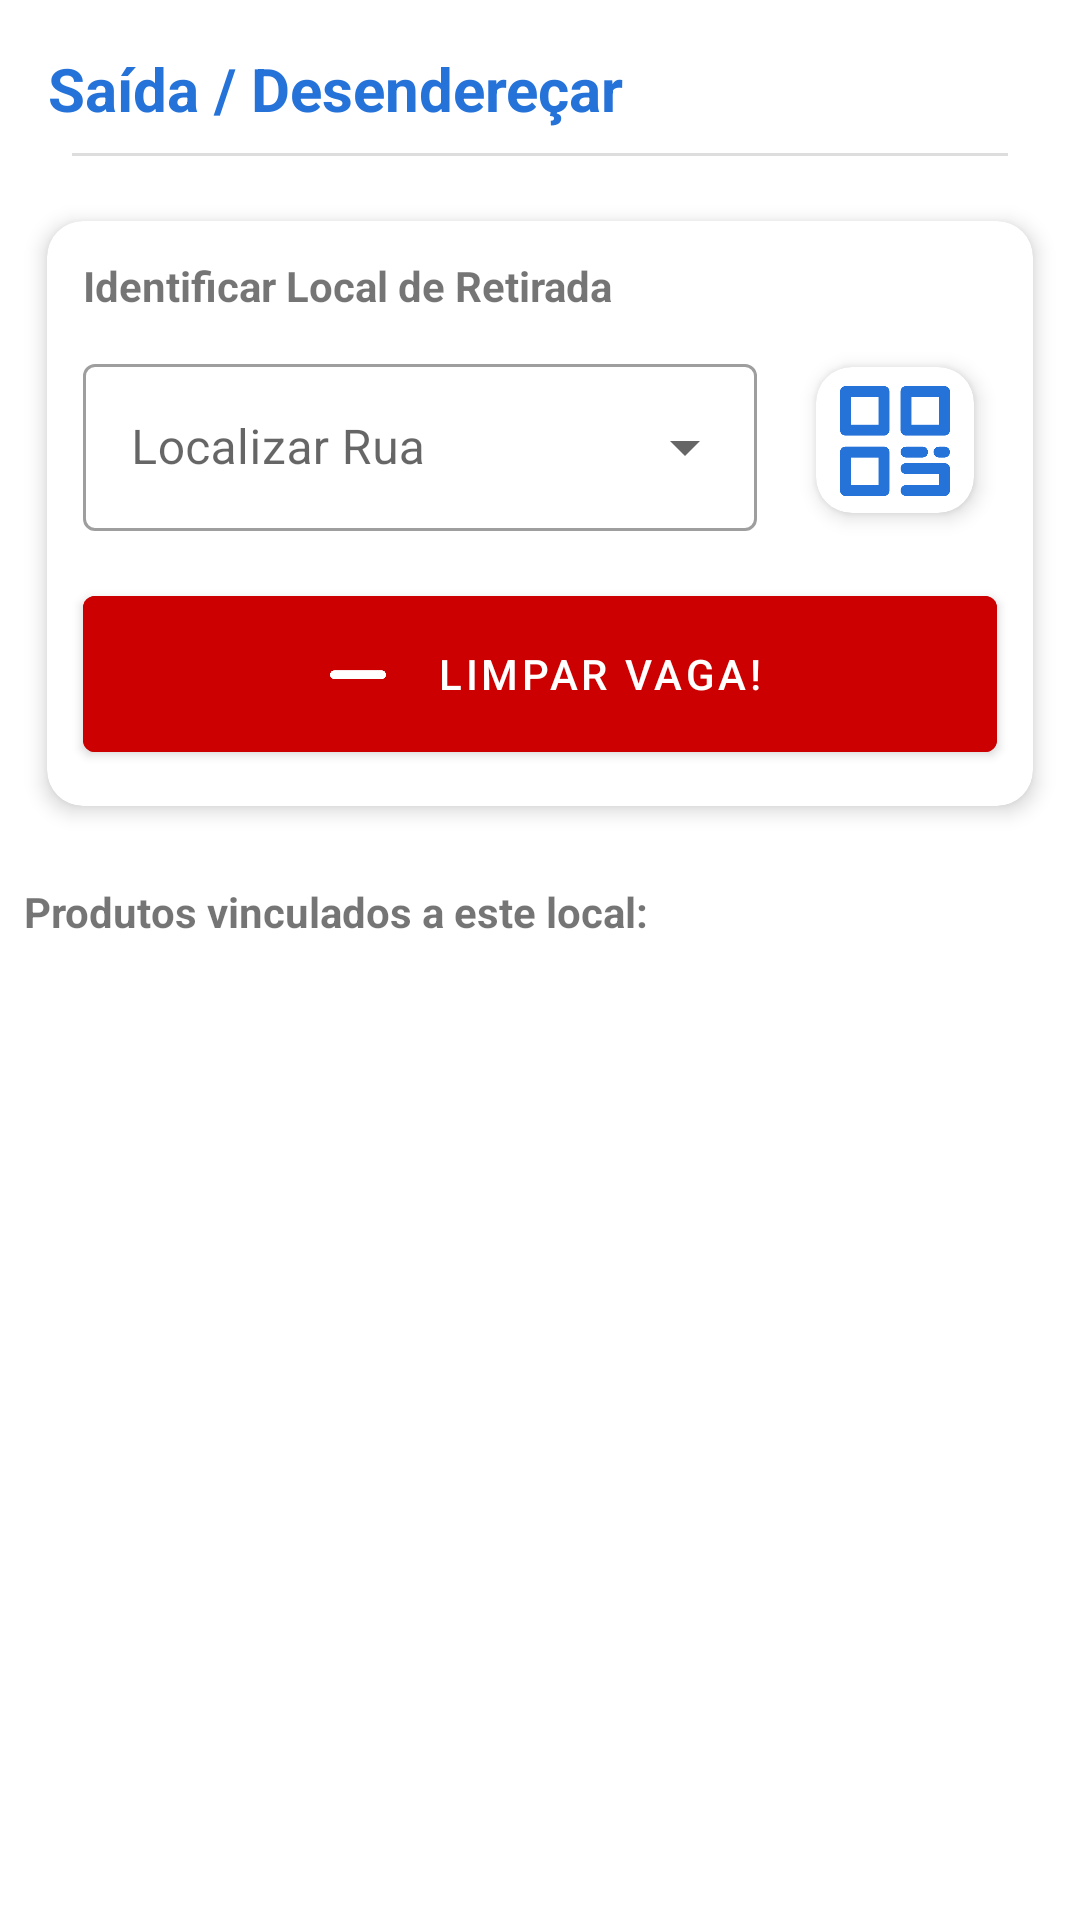

Locate icon controls on the screen. Image size 1080x1920, boxes as bbox=(x1, y1, x2, y2).
Escanear Saída: bbox=(823, 380, 974, 513)
